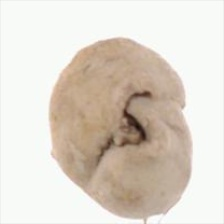L3: (97, 84, 152, 159)
L4: (49, 36, 192, 221)
